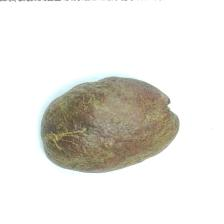NG: (39, 104, 106, 168)
